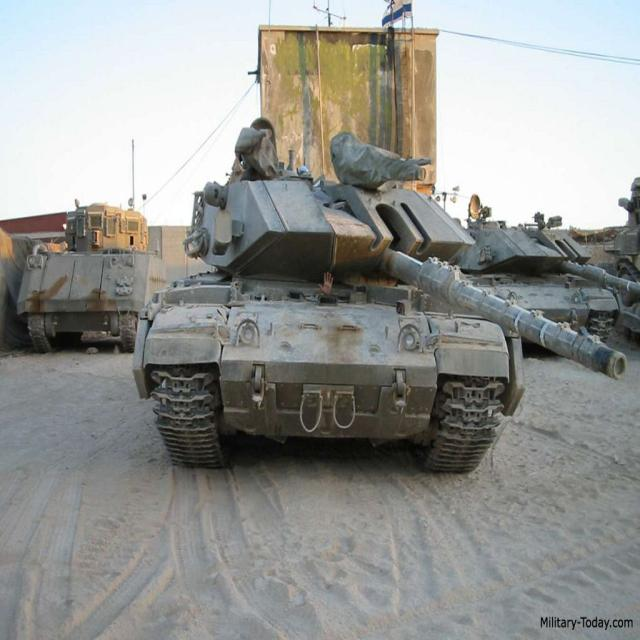Tank: (172, 112, 516, 497), (459, 191, 619, 360)
